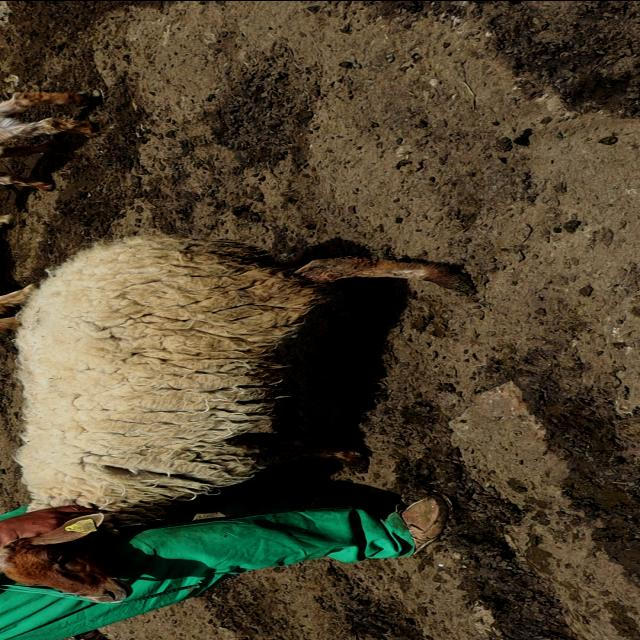Score_4: (0, 234, 471, 602)
